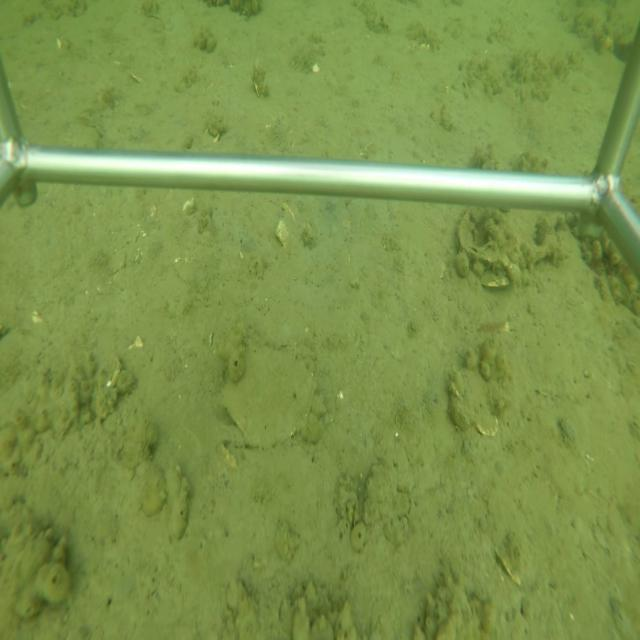Oyster-Closed: (218, 335, 321, 448)
